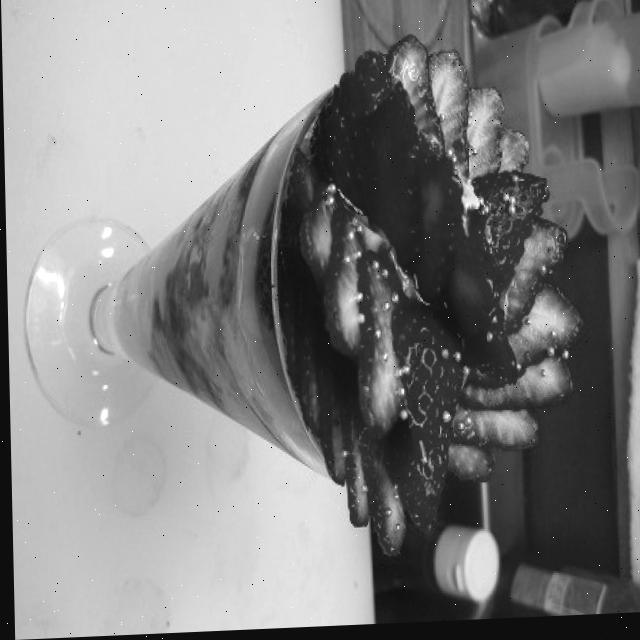蛋糕甜品: (52, 24, 610, 573)
